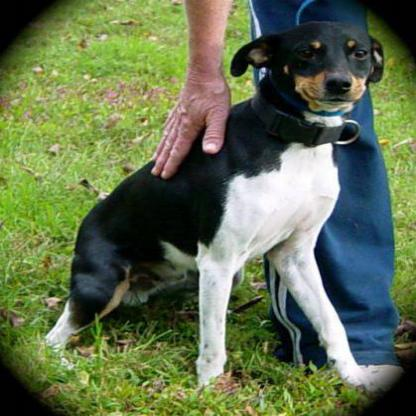dog: (87, 32, 372, 379)
